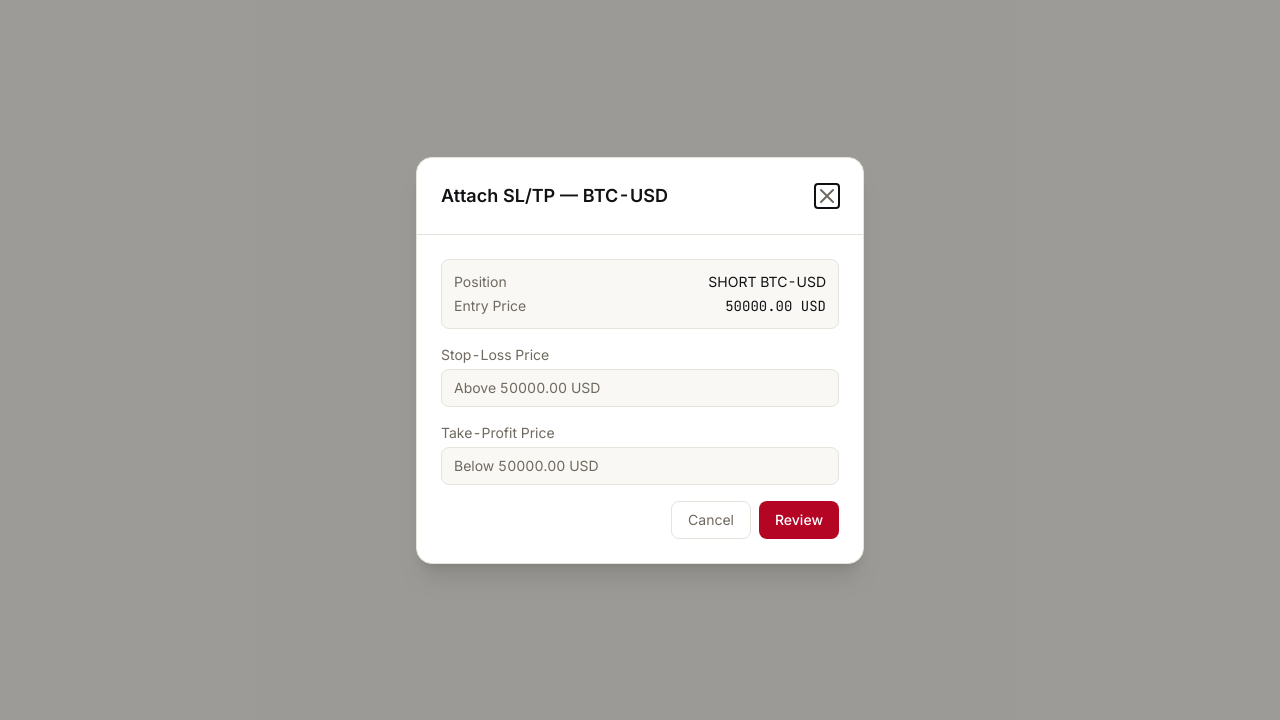
Test: AttachBracketModal › validates SL above entry for SHORT
Type "45000" into the number field with test id "sl-price-input" at (640, 388), box [441, 368, 839, 406]
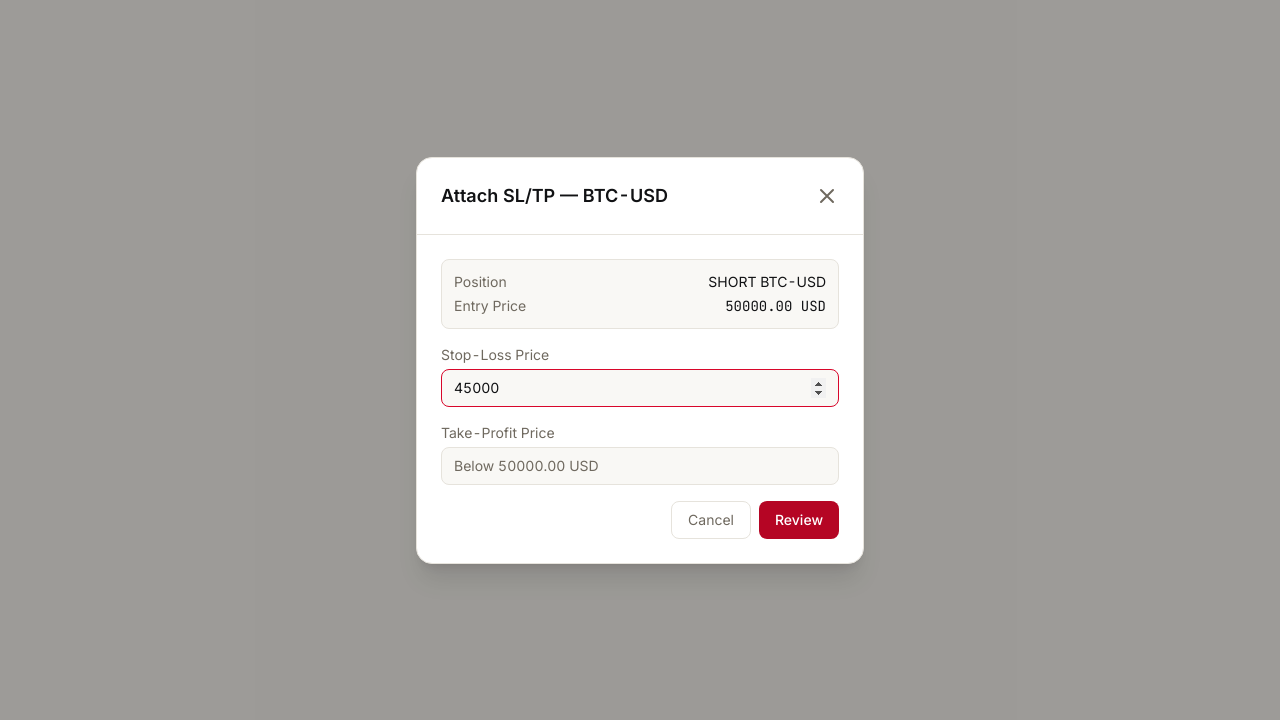
Click the button with test id "bracket-submit" at (799, 520), box [759, 500, 839, 538]
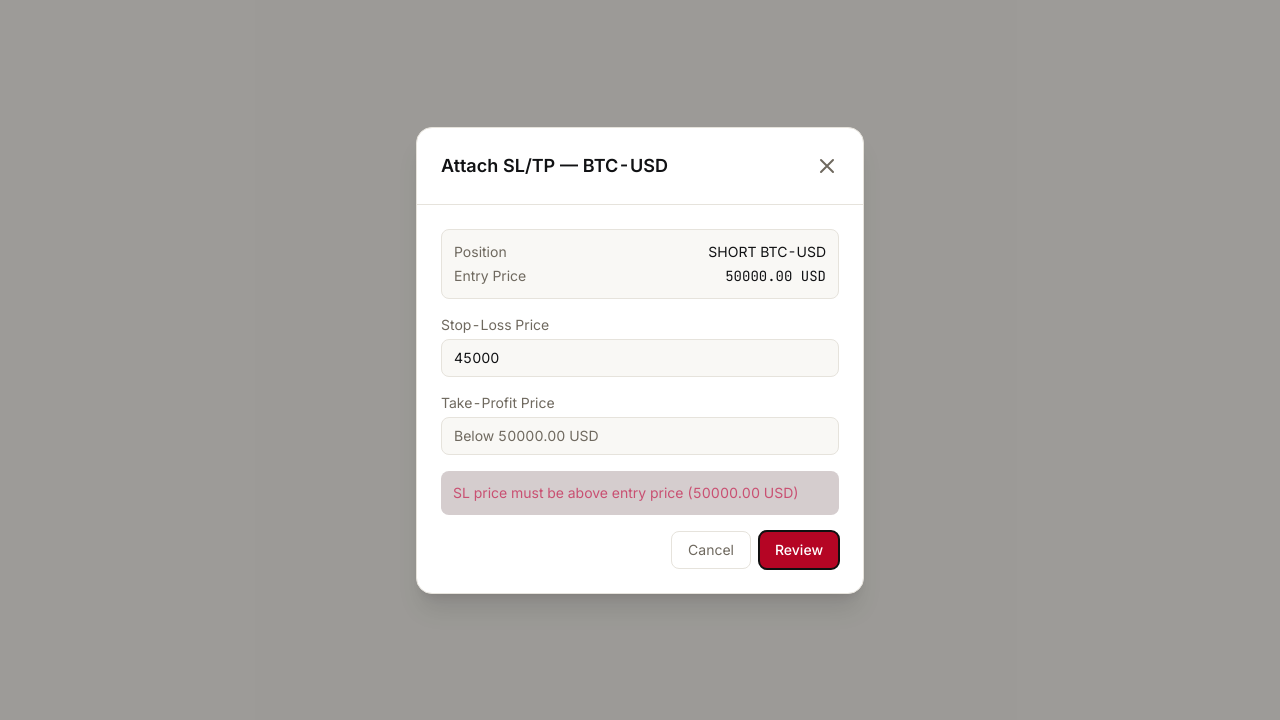
Check: the text with test id "bracket-error" shows "SL price must be above entry", box [453, 484, 799, 500]
